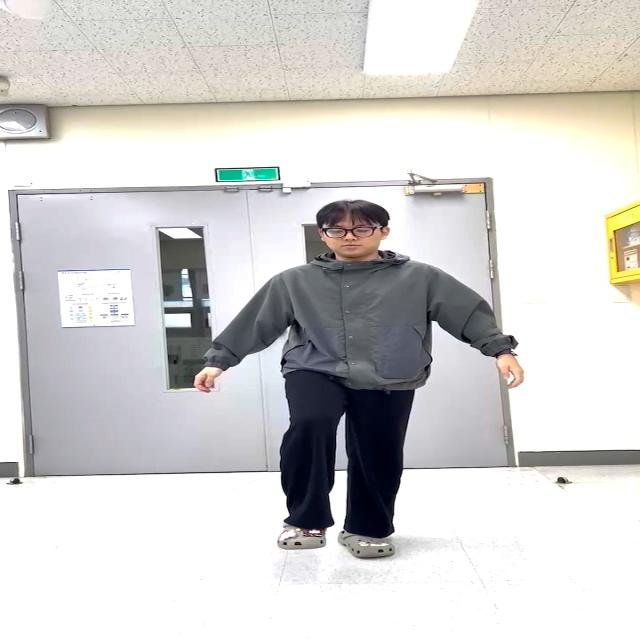leg: (263, 364, 353, 561)
